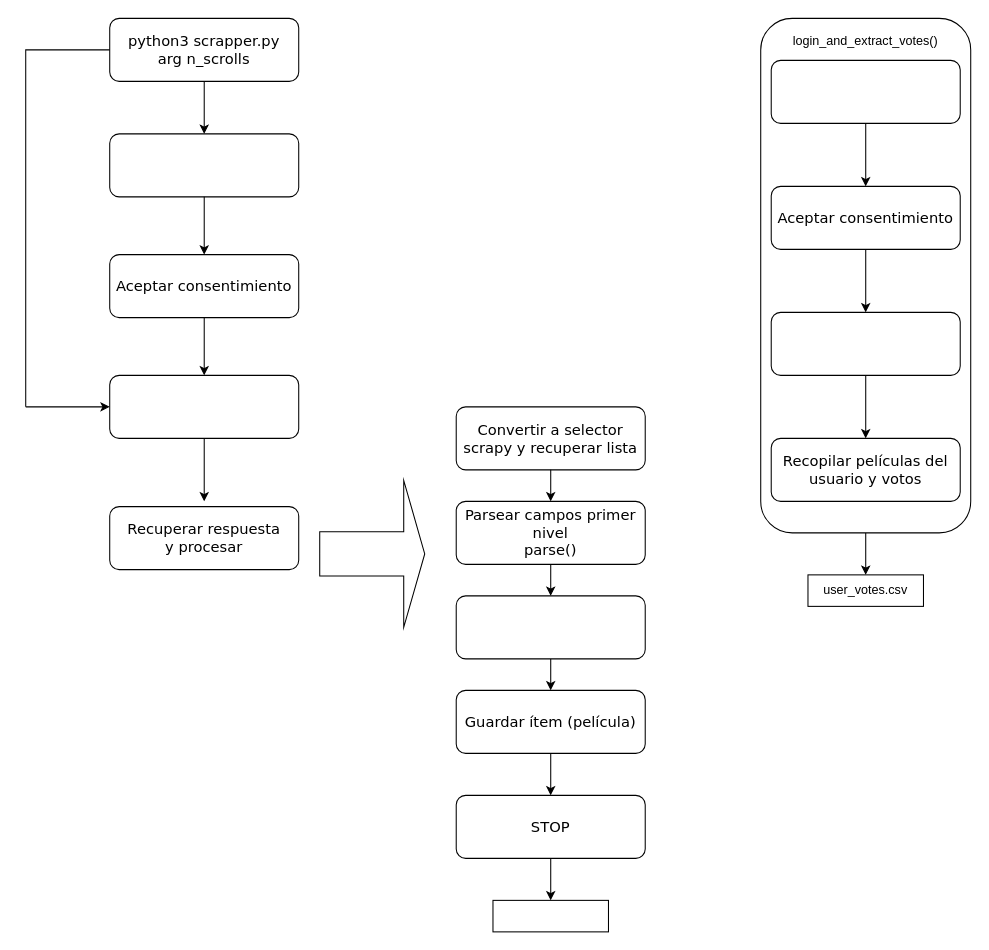
This 989x950 diagram has some shape labels left out. The shapes that lost their labels are listed below. From the top down, each one's centre as x and y in pixels, then its label:
(865,91): Login con variables de entorno
(204,165): Inicializar driver, leer variables de entorno y hacer request
(865,343): Acceso a mis votaciones
(204,406): Bucle Más Resultados stop tras n_scrolls
(550,627): Obtener datos adicionales url detaille get_extended_url()
(550,915): ranking.csv
